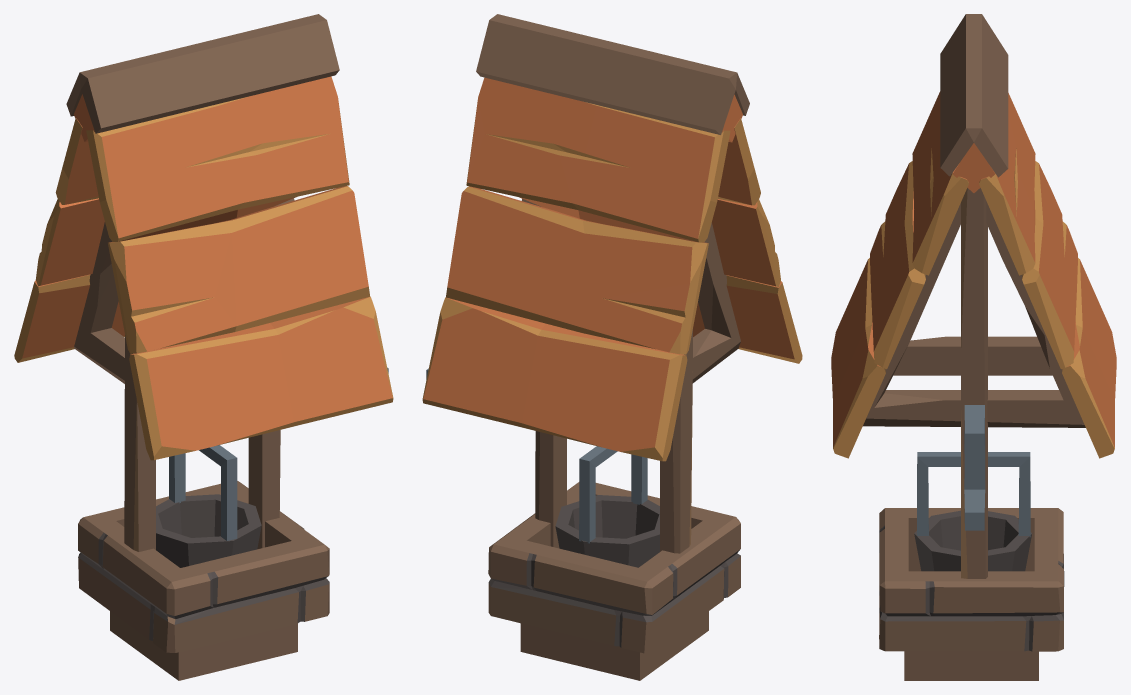
The model's file is Well.fbx.
3 views of the same model, side by side, from view 1: azimuth 30°, elevation 25°; view 2: azimuth 150°, elevation 25°; view 3: azimuth 270°, elevation 25° (orthographic). The views are drawn at different scales.
Visible parts, largest first — view 1: Well; view 2: Well; view 3: Well.
Part boxes in pixels (left/top/right/bottom): Well: left=14, top=14, right=393, bottom=680; Well: left=422, top=14, right=802, bottom=680; Well: left=831, top=14, right=1116, bottom=680.
Bounding box in the file's own units: 35.59 × 66.65 × 29.64.
